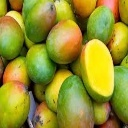mango: (45, 20, 83, 64)
